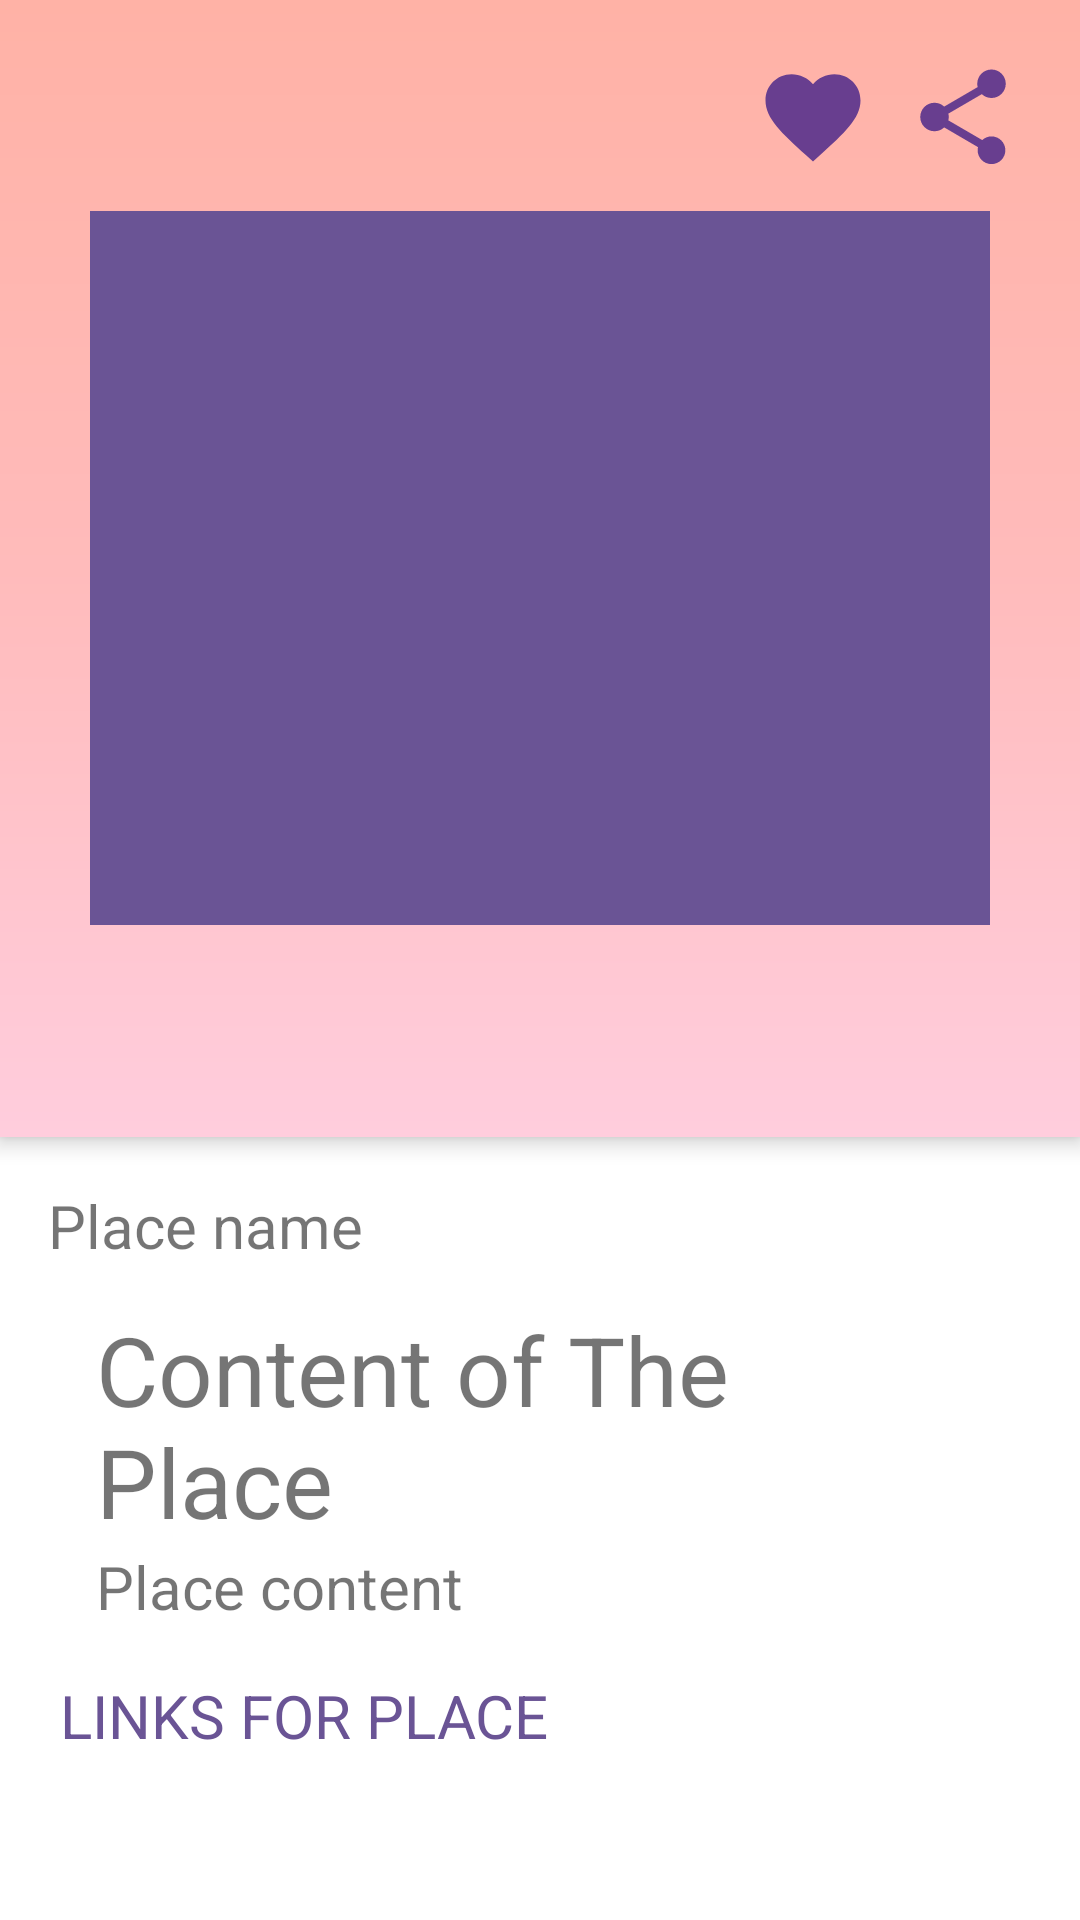

Screen size 1080×1920. Icon name, then its center in pixels as [x,y]:
favorite: [813,117]
share: [963,116]
